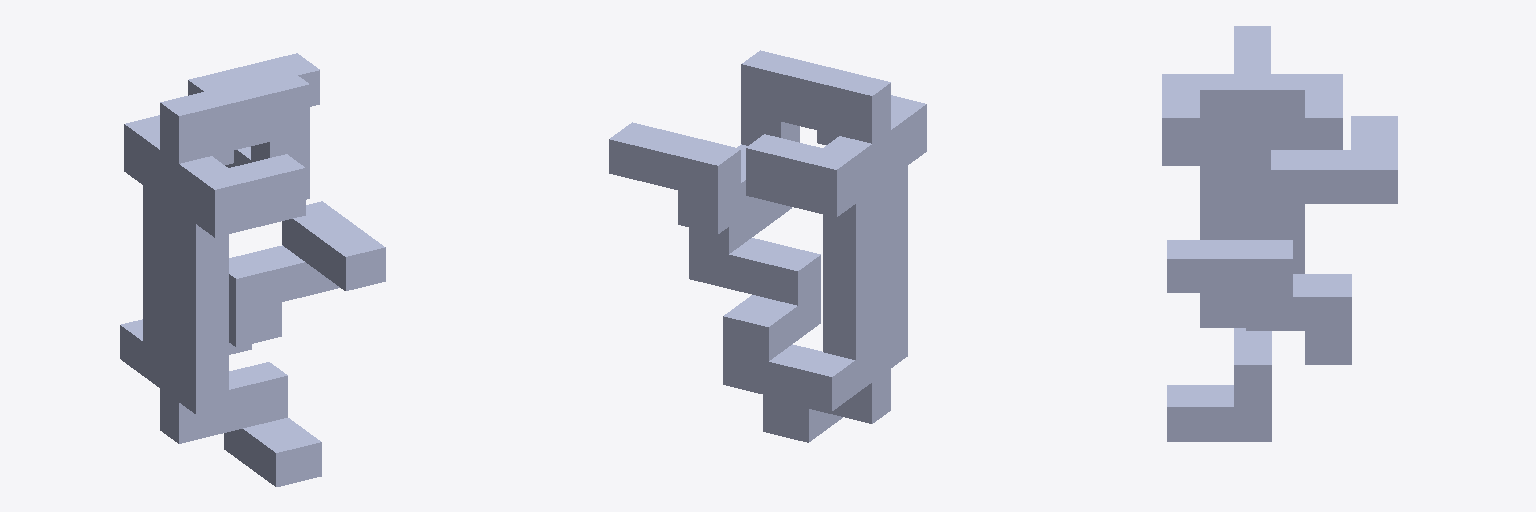
The picture shows the model from 3 angles: view 1: azimuth 30°, elevation 25°; view 2: azimuth 150°, elevation 25°; view 3: azimuth 270°, elevation 25°; orthographic projection.
Parts seen in each view (by area): view 1: mesh_1_Long-3.001; view 2: mesh_1_Long-3.001; view 3: mesh_1_Long-3.001.
Part boxes in pixels (bbox=[...]): mesh_1_Long-3.001: bbox=[120, 53, 385, 486]; mesh_1_Long-3.001: bbox=[609, 50, 926, 442]; mesh_1_Long-3.001: bbox=[1162, 26, 1397, 441].
Bounding box in the file's own units: 0.11 × 0.19 × 0.1119.